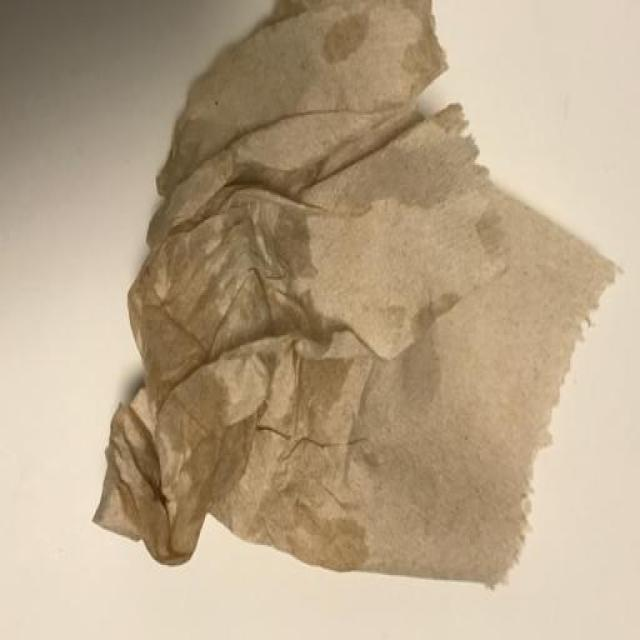Random Trash: (92, 0, 620, 588)
